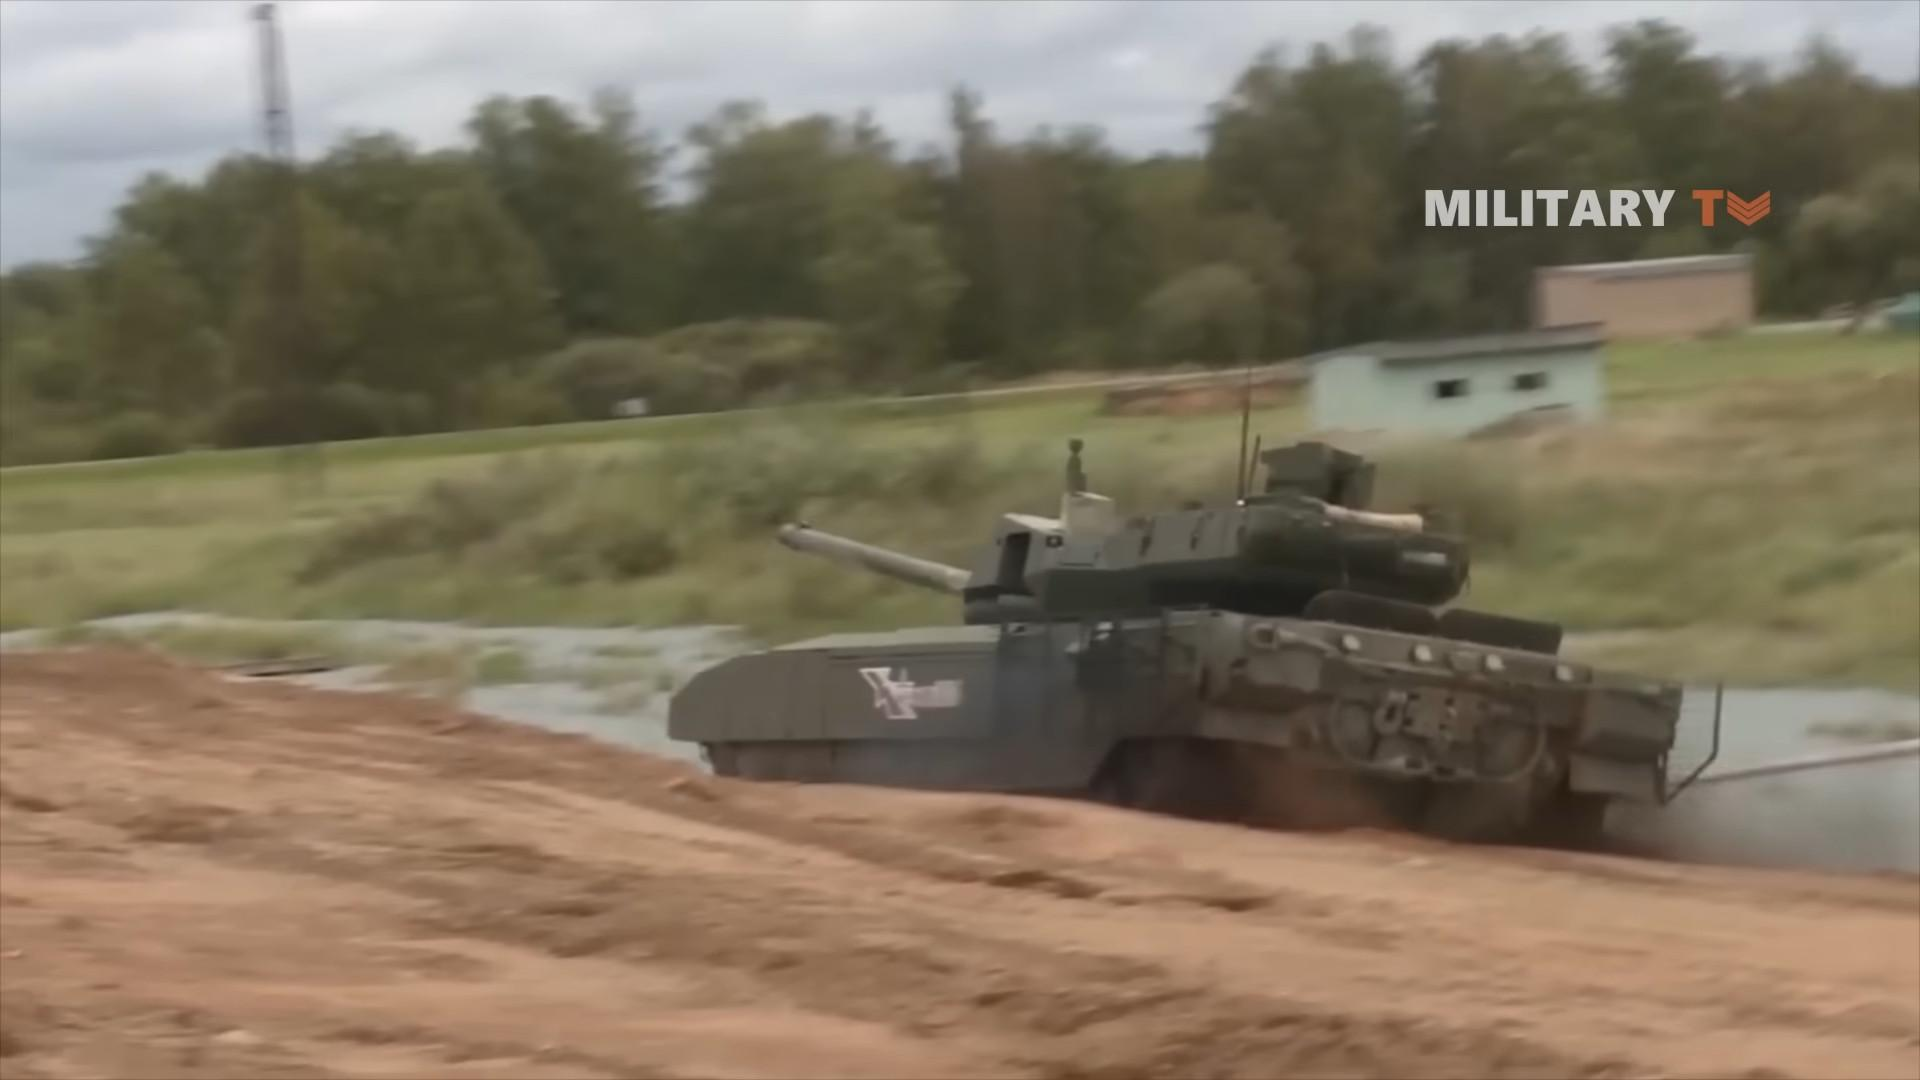tank: (665, 438, 1684, 841)
